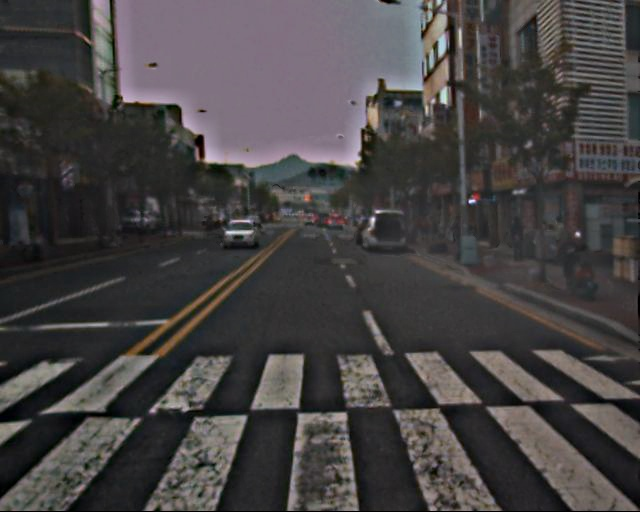person: (549, 214, 569, 263), (508, 215, 527, 261), (452, 217, 464, 247)
